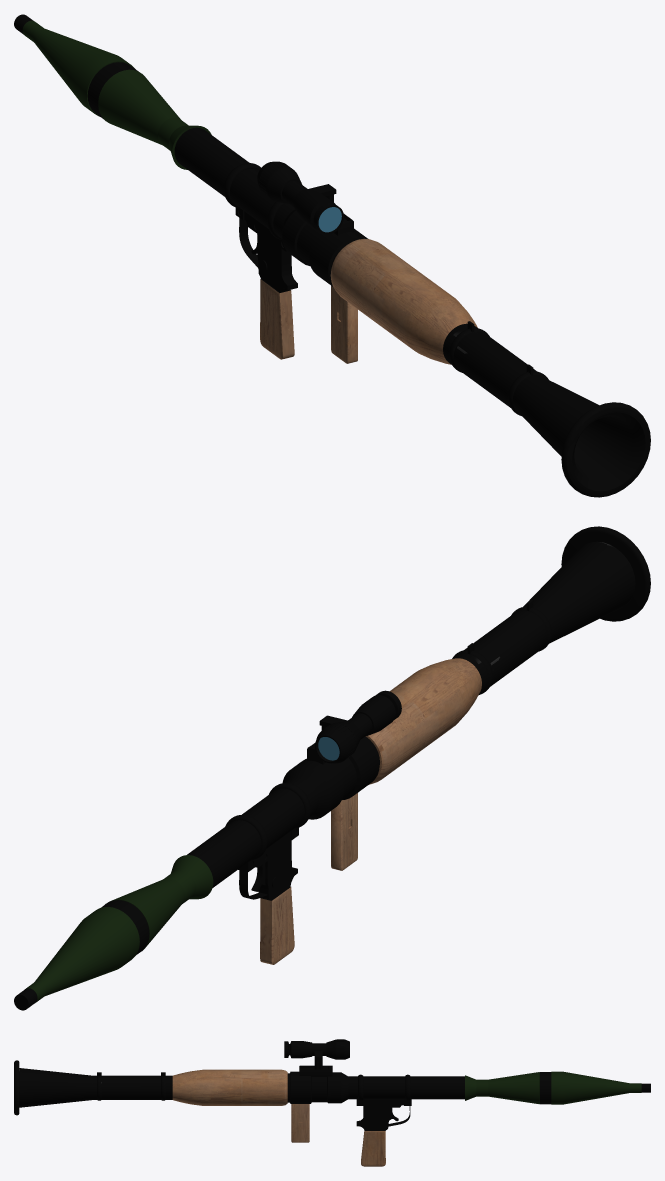
File: RPG-7.obj
3 views of the same model, one above another, from view 1: azimuth 30°, elevation 25°; view 2: azimuth 150°, elevation 25°; view 3: azimuth 270°, elevation 25° (orthographic). The views are drawn at different scales.
Visible parts, largest first — view 1: Cylinder, Cylinder.002, Cube.006, Cylinder.001, Cube, Cube.008; view 2: Cylinder, Cylinder.002, Cube.006, Cylinder.001, Cube, Cube.008; view 3: Cylinder, Cylinder.002, Cube.006, Cylinder.001, Cube, Cube.005, Cube.008.
Boxes of the visible parts, bbox=[...] form: Cylinder: bbox=[174, 127, 650, 497]; Cylinder.002: bbox=[14, 14, 211, 169]; Cube.006: bbox=[224, 163, 297, 359]; Cylinder.001: bbox=[257, 161, 343, 234]; Cube: bbox=[331, 285, 357, 363]; Cube.008: bbox=[449, 321, 548, 415]; Cylinder: bbox=[187, 526, 650, 887]; Cylinder.002: bbox=[14, 855, 213, 1010]; Cube.006: bbox=[225, 783, 310, 964]; Cylinder.001: bbox=[315, 690, 401, 763]; Cube: bbox=[331, 793, 357, 870]; Cube.008: bbox=[452, 600, 551, 694]; Cylinder: bbox=[14, 1060, 464, 1115]; Cylinder.002: bbox=[465, 1071, 650, 1104]; Cube.006: bbox=[356, 1074, 411, 1166]; Cylinder.001: bbox=[284, 1039, 349, 1069]; Cube: bbox=[291, 1104, 309, 1142]; Cube.005: bbox=[299, 1065, 332, 1076]; Cube.008: bbox=[97, 1072, 165, 1100].
Bounding box in the file's own units: 1.84 × 4.26 × 21.04.
